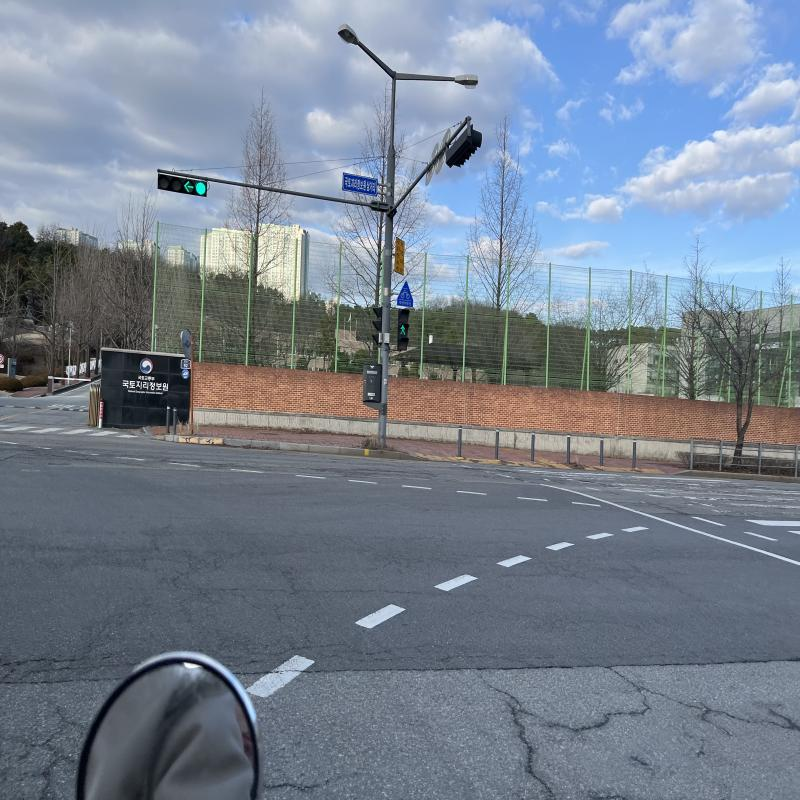green: (195, 181, 207, 197)
left: (183, 180, 195, 194)
